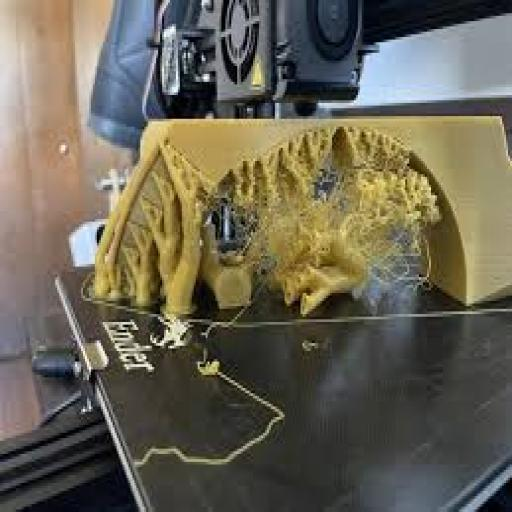spaghetti: (206, 165, 482, 324)
